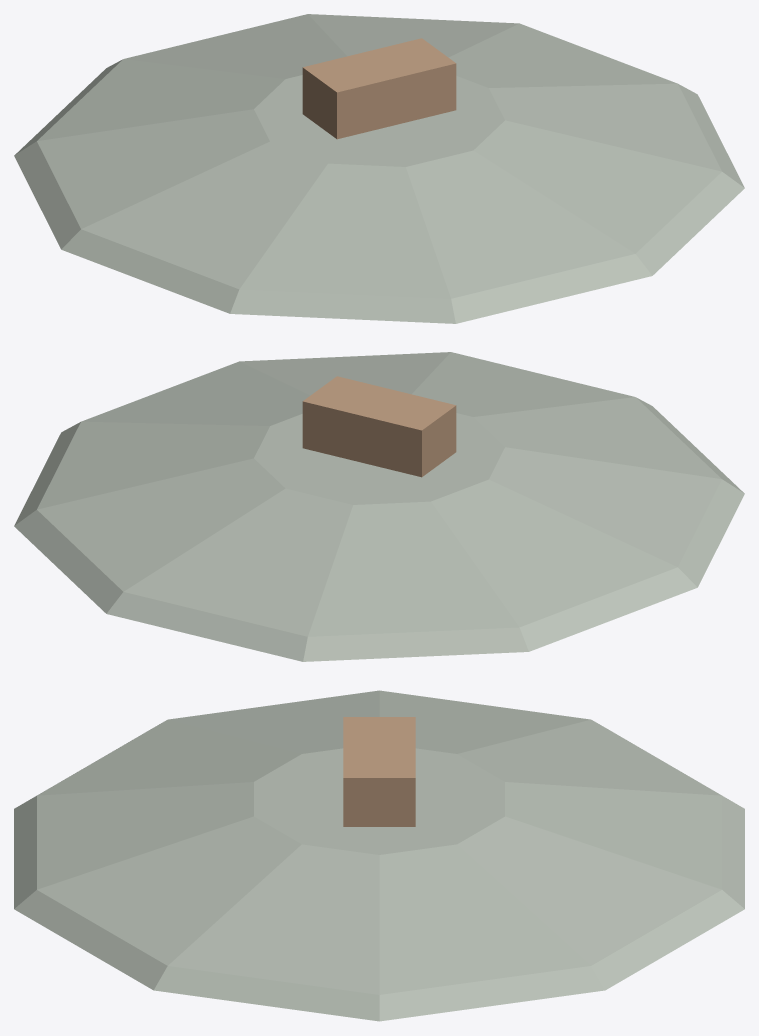
File: crafted-pot-lid.glb
3 renders of one model, top to bottom at view 1: azimuth 30°, elevation 25°; view 2: azimuth 150°, elevation 25°; view 3: azimuth 270°, elevation 25°, orthographic. The views are drawn at different scales.
Parts seen in each view (by area): view 1: lid, lid-handle; view 2: lid, lid-handle; view 3: lid, lid-handle.
Part boxes in pixels (box(x1,y1,x2,y2)): lid: box(14, 14, 744, 323); lid-handle: box(302, 38, 456, 139); lid: box(14, 352, 744, 661); lid-handle: box(302, 376, 456, 477); lid: box(14, 690, 744, 1021); lid-handle: box(343, 717, 415, 826).
Bounding box in the file's own units: 0.64 × 0.1025 × 0.6087.
